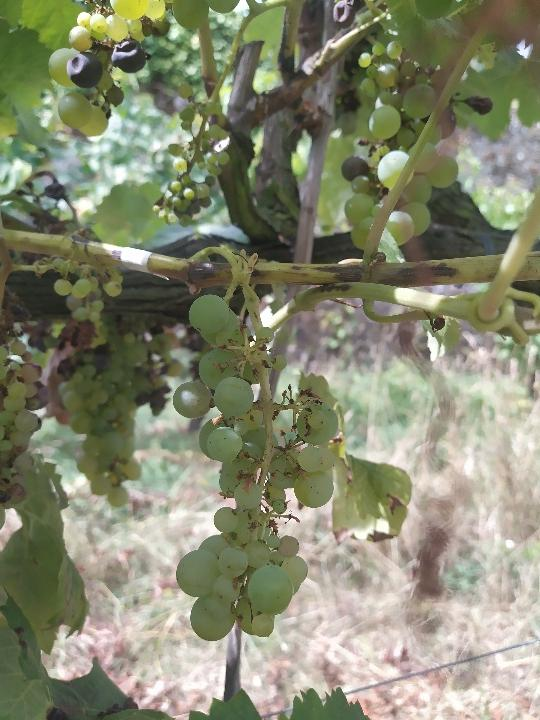grape: (168, 293, 341, 644)
